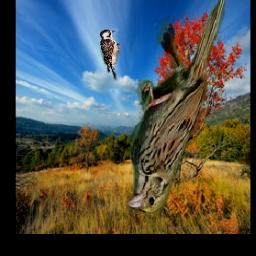Sparrow: (127, 0, 228, 215)
Woodpecker: (99, 29, 120, 81)
